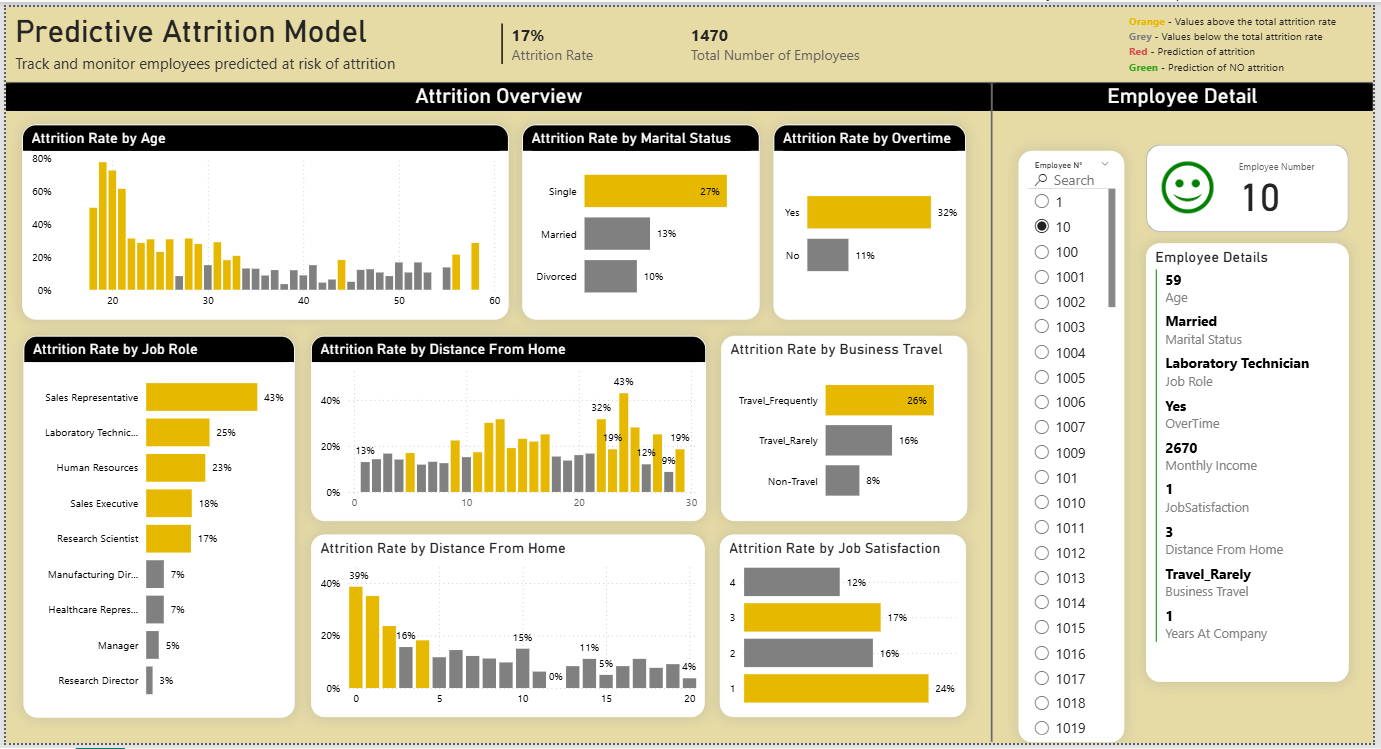

The page's visual inventory and layout, read from the dashboard file:
{"tool":"powerbi","page":{"name":"Report","canvas":[1580,851],"ordinal":0},"visuals":[{"type":"shape","box":[0,70.4,1580,33.9],"z":0},{"type":"card","title":"Predictive Attrition Model","fields":{"Values":["Min(features.BusinessTravel)"]},"box":[6.3,7.2,561.5,77],"z":1000},{"type":"cardVisual","fields":{"Data":["Min(features.EmployeeNumber)"]},"box":[1306.2,147.3,258.1,125.1],"z":2000},{"type":"multiRowCard","title":"Employee Details","fields":{"Values":["Sum(features.Age)","Min(features.MaritalStatus)","Min(features.JobRole)","Min(features.OverTime)","Sum(features.MonthlyIncome)","Median(features.JobSatisfaction)","Sum(features.DistanceFromHome)","Min(features.BusinessTravel)","Sum(features.YearsAtCompany)"]},"box":[1318,272.5,234.7,507.1],"z":3000},{"type":"slicer","title":"Employees predicted at risk of attrition","fields":{"Values":["features.EmployeeNumber"]},"box":[1170.8,166,122.7,684.3],"z":4000},{"type":"shape","box":[1120,87.7,39.1,761.3],"z":5000,"group":"g1"},{"type":"clusteredColumnChart","title":"Attrition Rate by Age","fields":{"Category":["features.Age"],"Y":["Medidas.%attrition"]},"box":[18.6,136.3,562.7,225.3],"z":5000},{"type":"card","title":"Employee Detail","fields":{"Values":["Min(features.BusinessTravel)"]},"box":[1139.9,87.5,440.1,38.4],"z":6000},{"type":"card","title":"Attrition Overview","fields":{"Values":["Min(features.BusinessTravel)"]},"box":[0,87.5,1139.9,38.4],"z":7000},{"type":"multiRowCard","fields":{"Values":["Medidas.%attrition","Sum(features.EmployeeCount)"]},"box":[568.2,14.8,436.2,60.2],"z":8000},{"type":"group","id":"g1","title":"Group 1","box":[1120,87.7,39.1,761.3],"z":9000},{"type":"barChart","title":"Attrition Rate by Marital Status","fields":{"Category":["features.MaritalStatus"],"Y":["Medidas.%attrition"]},"box":[597.3,136.3,274.7,225.3],"z":10000},{"type":"barChart","title":"Attrition Rate by Job Role","fields":{"Y":["Medidas.%attrition"],"Category":["features.JobRole"]},"box":[19.7,379.9,313.6,441.4],"z":11000},{"type":"barChart","title":"Attrition Rate by Overtime","fields":{"Y":["Medidas.%attrition"],"Category":["features.OverTime"]},"box":[888,136.3,222.7,225.3],"z":12000},{"type":"barChart","title":"Attrition Rate by Job Satisfaction","fields":{"Y":["Medidas.%attrition"],"Category":["features.JobSatisfaction"]},"box":[825,609.7,284.6,211.6],"z":13000},{"type":"clusteredColumnChart","title":"Attrition Rate by Distance From Home","fields":{"Y":["Medidas.%attrition"],"Category":["features.DistanceFromHome"]},"box":[353.1,379.9,456.6,214.6],"z":14000},{"type":"barChart","title":"Attrition Rate by Business Travel","fields":{"Y":["Medidas.%attrition"],"Category":["features.BusinessTravel"]},"box":[826.5,379.9,284.6,214.6],"z":15000},{"type":"clusteredColumnChart","title":"Attrition Rate by Distance From Home","fields":{"Y":["Medidas.%attrition"],"Category":["features.YearsAtCompany"]},"box":[353.1,609.7,455.1,211.6],"z":16000},{"type":"textbox","box":[1293.2,1.3,277.7,97.8],"z":17000}]}

Visuals, with their boxes in screenshot pixels (x1, y1, x2, y2), scaled from the page's 1580x851 canvas onto the 1381x749 screenshot:
shape: x1=0, y1=62, x2=1380, y2=92
"Predictive Attrition Model" card: x1=6, y1=6, x2=496, y2=74
cardVisual - Min(features.EmployeeNumber): x1=1142, y1=130, x2=1367, y2=240
"Employee Details" multiRowCard: x1=1152, y1=240, x2=1357, y2=686
"Employees predicted at risk of attrition" slicer: x1=1023, y1=146, x2=1131, y2=748
shape: x1=979, y1=77, x2=1013, y2=747
"Attrition Rate by Age" clusteredColumnChart: x1=16, y1=120, x2=508, y2=318
"Employee Detail" card: x1=996, y1=77, x2=1380, y2=111
"Attrition Overview" card: x1=0, y1=77, x2=996, y2=111
multiRowCard - Medidas.%attrition x Sum(features.EmployeeCount): x1=497, y1=13, x2=878, y2=66
"Group 1" group: x1=979, y1=77, x2=1013, y2=747
"Attrition Rate by Marital Status" barChart: x1=522, y1=120, x2=762, y2=318
"Attrition Rate by Job Role" barChart: x1=17, y1=334, x2=291, y2=723
"Attrition Rate by Overtime" barChart: x1=776, y1=120, x2=971, y2=318
"Attrition Rate by Job Satisfaction" barChart: x1=721, y1=537, x2=970, y2=723
"Attrition Rate by Distance From Home" clusteredColumnChart: x1=309, y1=334, x2=708, y2=523
"Attrition Rate by Business Travel" barChart: x1=722, y1=334, x2=971, y2=523
"Attrition Rate by Distance From Home" clusteredColumnChart: x1=309, y1=537, x2=706, y2=723
textbox: x1=1130, y1=1, x2=1373, y2=87
